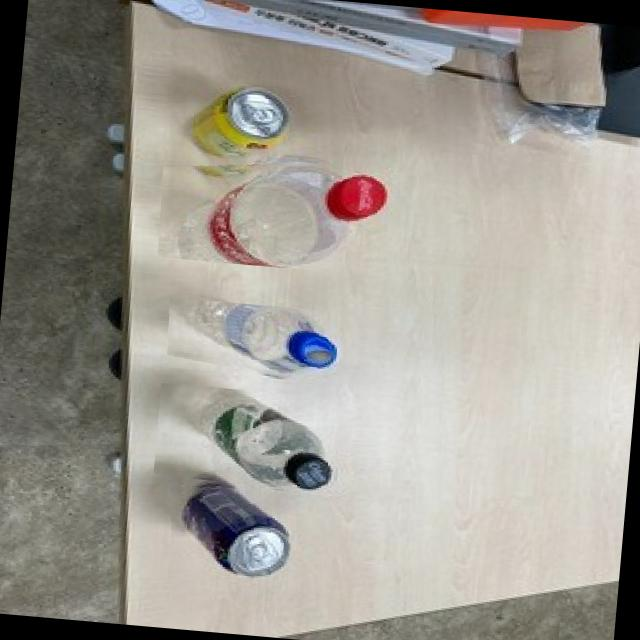plastic bottle: (154, 140, 393, 276), (151, 382, 351, 497), (160, 296, 342, 388), (162, 478, 294, 582), (180, 78, 298, 165)
